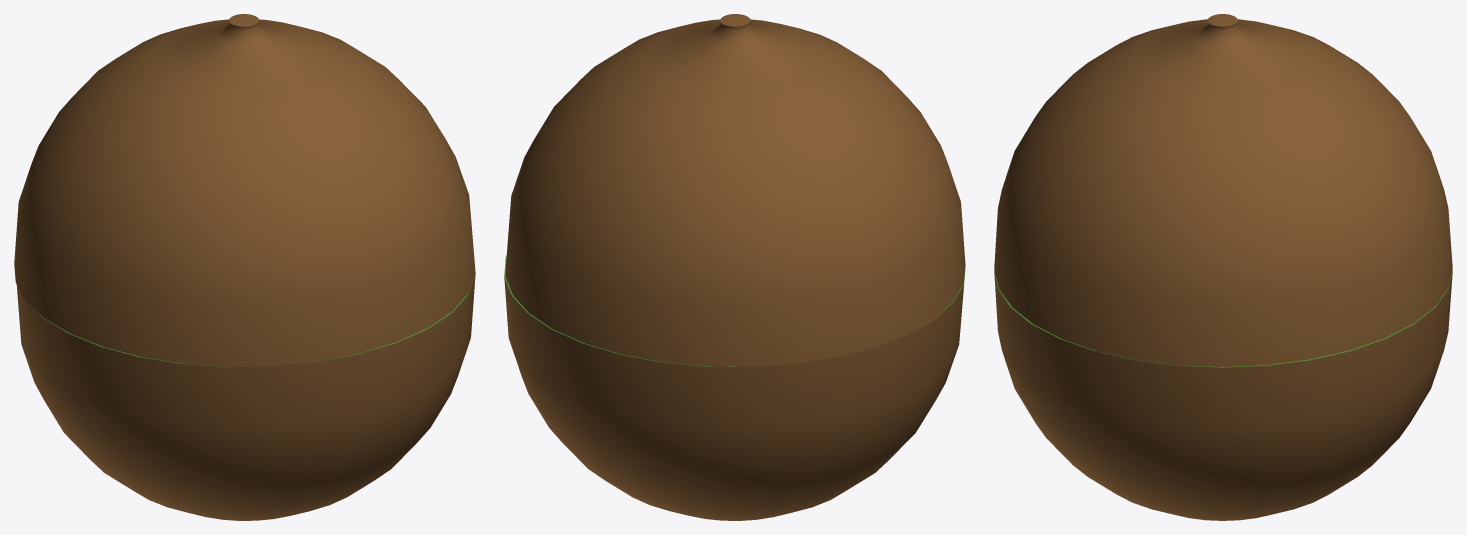
File: Fruit_Kiwi_Sliced.fbx
The picture shows the model from 3 angles, left to right: view 1: azimuth 30°, elevation 25°; view 2: azimuth 150°, elevation 25°; view 3: azimuth 270°, elevation 25°; orthographic projection.
Visible parts, largest first — view 1: Kiwi_Top, Kiwi_Bottom; view 2: Kiwi_Top, Kiwi_Bottom; view 3: Kiwi_Top, Kiwi_Bottom.
Boxes of the visible parts, box(x1,y1,x2,y2) form: Kiwi_Top: box(14, 14, 475, 366); Kiwi_Bottom: box(16, 276, 475, 520); Kiwi_Top: box(505, 14, 965, 366); Kiwi_Bottom: box(504, 256, 965, 520); Kiwi_Top: box(994, 14, 1452, 366); Kiwi_Bottom: box(994, 271, 1452, 520).
Size of the model in its own units: 92.57 by 106 by 92.01.
